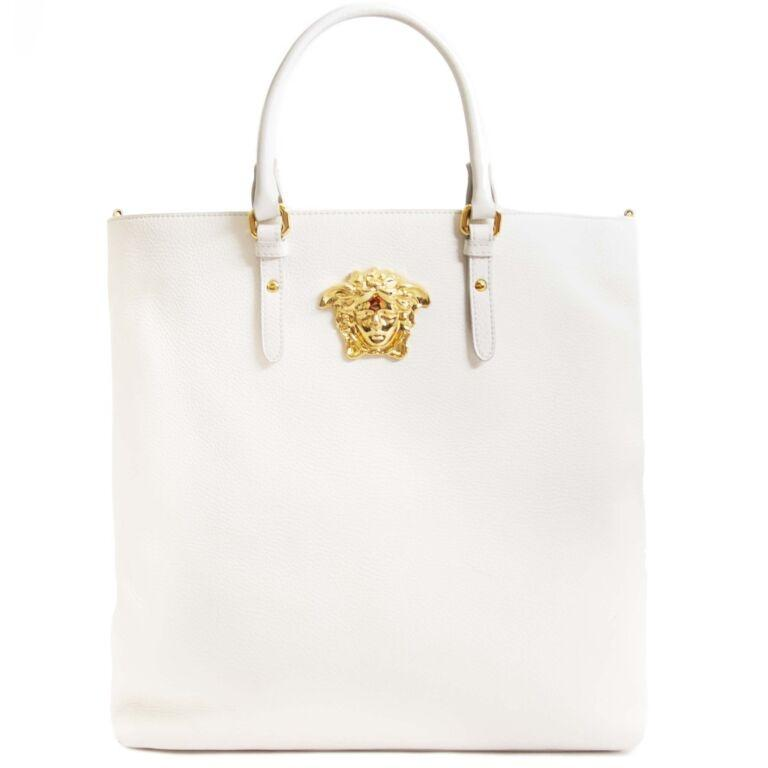VERSACE: (317, 263, 430, 363)
